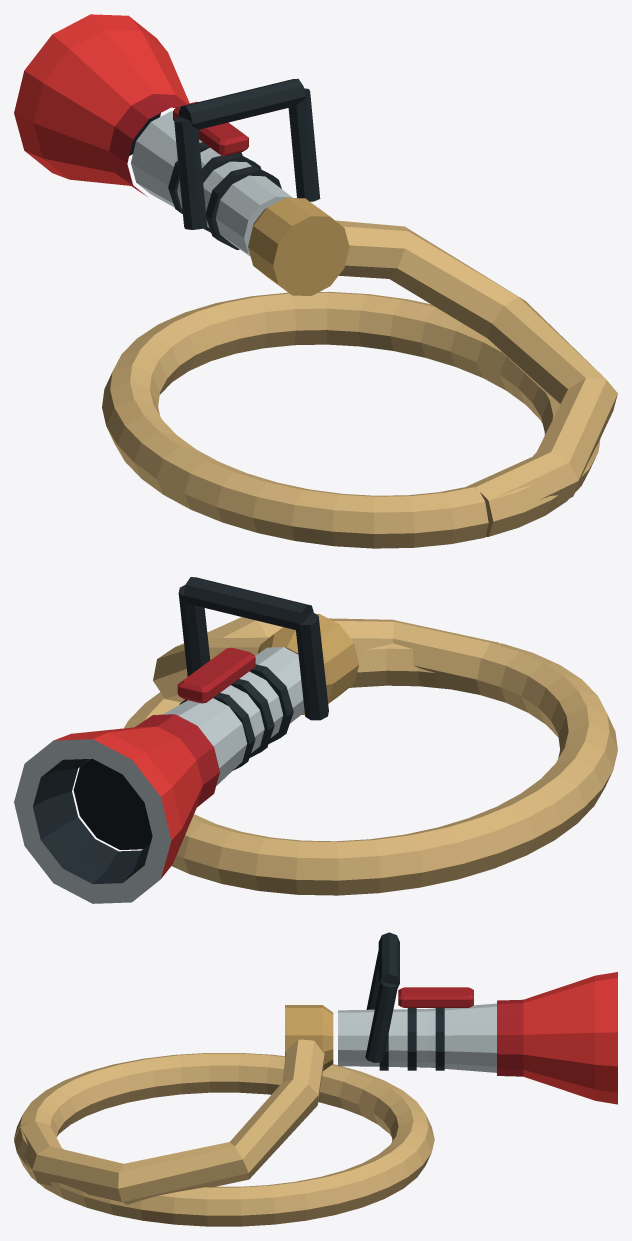
File: foam-hose.glb
3 views of the same model, one above another, from view 1: azimuth 30°, elevation 25°; view 2: azimuth 150°, elevation 25°; view 3: azimuth 270°, elevation 25° (orthographic). The views are drawn at different scales.
Parts seen in each view (by area): view 1: foam-hose; view 2: foam-hose; view 3: foam-hose.
Part boxes in pixels (box(x1,y1,x2,y2)): foam-hose: box(14, 14, 617, 548); foam-hose: box(14, 577, 617, 903); foam-hose: box(14, 932, 617, 1226).
Size of the model in its own units: 0.4744 by 0.3 by 0.7979.
Materials: 1 (1 with a texture image).
